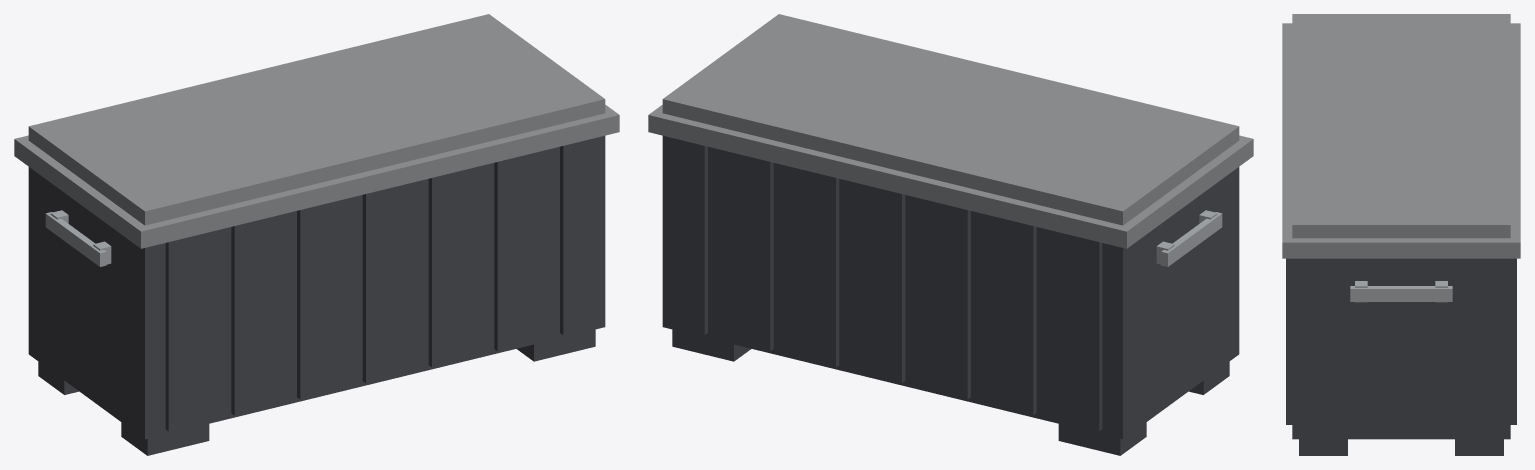
The model's file is FN_Box_Garden.glb.
3 renders of one model, left to right at view 1: azimuth 30°, elevation 25°; view 2: azimuth 150°, elevation 25°; view 3: azimuth 270°, elevation 25°, orthographic. The views are drawn at different scales.
Visible parts, largest first — view 1: FN_Box_Garden; view 2: FN_Box_Garden; view 3: FN_Box_Garden.
Boxes of the visible parts, bbox=[...] form: FN_Box_Garden: bbox=[14, 14, 619, 455]; FN_Box_Garden: bbox=[648, 14, 1253, 455]; FN_Box_Garden: bbox=[1282, 14, 1520, 455].
Size of the model in its own units: 1.19 by 0.578 by 0.534.
Materials: 1 (1 with a texture image).
